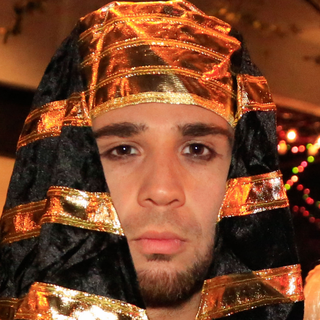eye: (178, 138, 219, 164), (106, 139, 145, 164)
